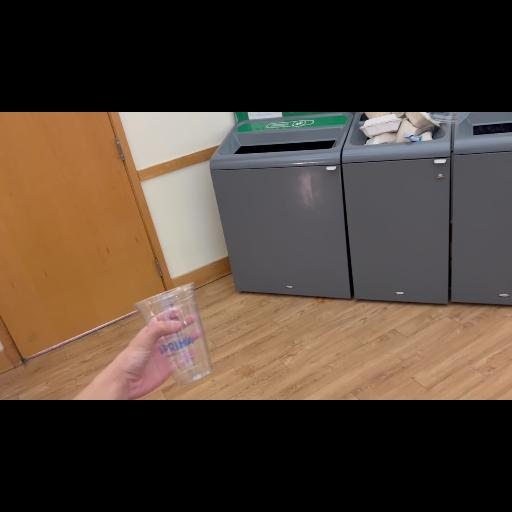lp_plastic_cup: (128, 276, 230, 392)
